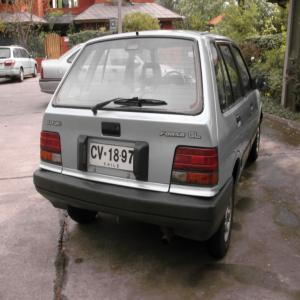Vehicle-registration-plate: (90, 144, 135, 174)
